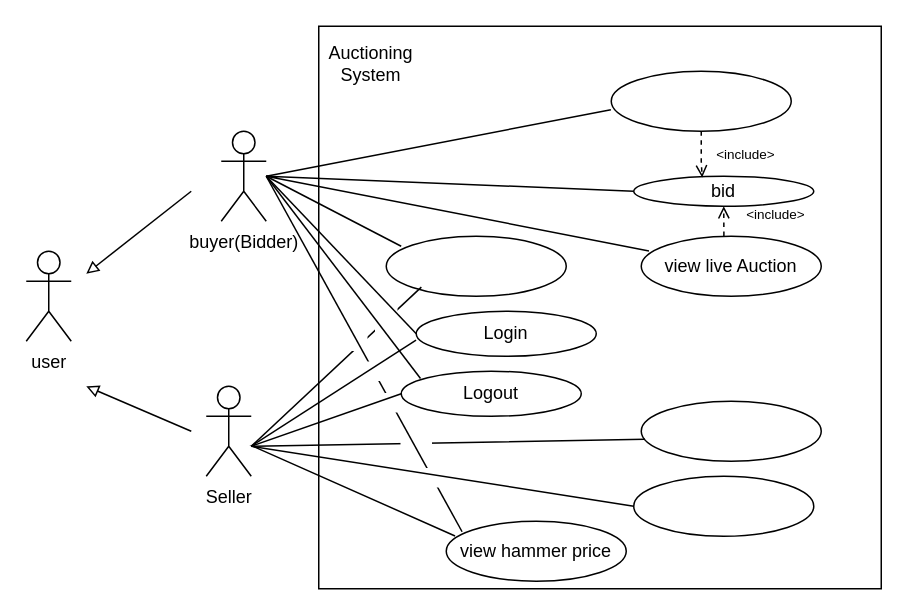
The diagram is 908 pixels wide and 615 high, and some of its shapes have lost their labels. The shapes that lost their labels are listed below. From the top down, each one's box as (x1, y1, x2, y2) in pixels, then its label:
(610, 70, 791, 131): view auction product
(385, 235, 566, 296): Register
(640, 400, 821, 461): create a Lot
(632, 475, 814, 536): delete a Lot
